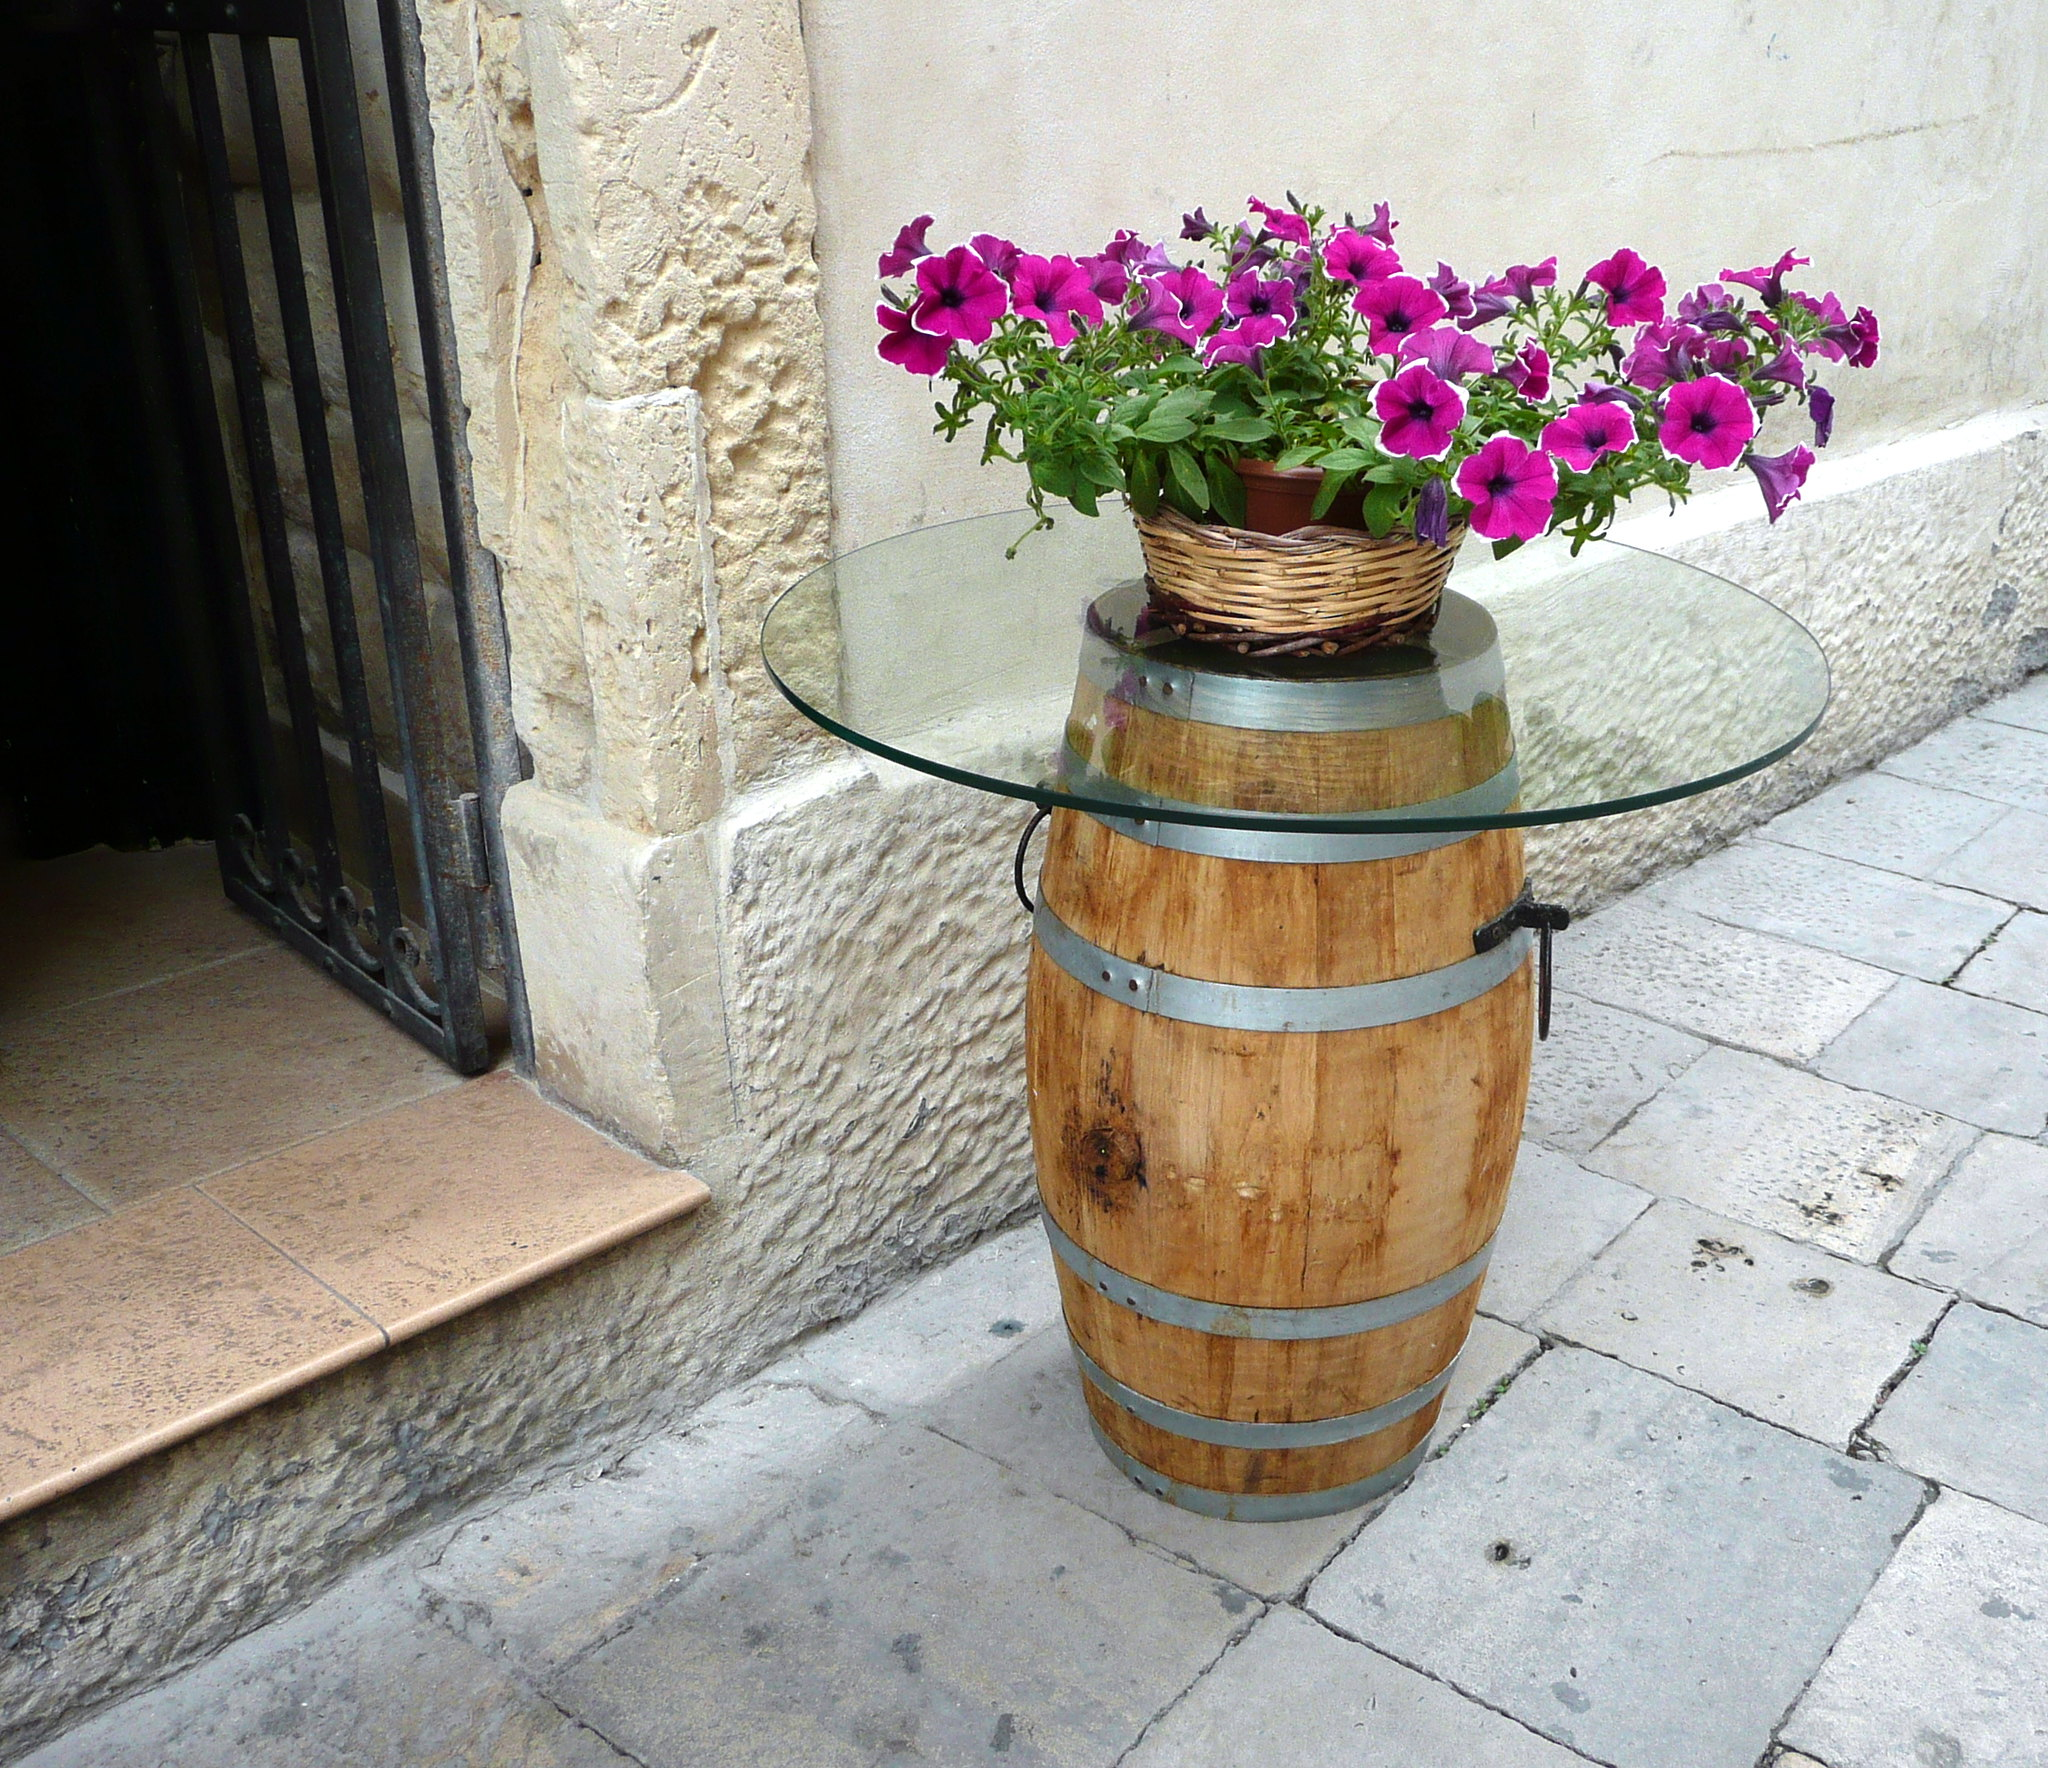potted plant: (864, 183, 1863, 683)
